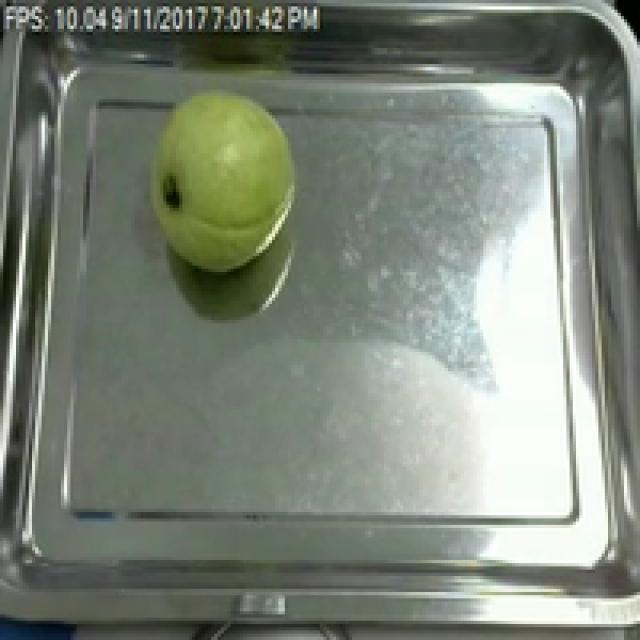Fruit: (141, 80, 307, 278)
